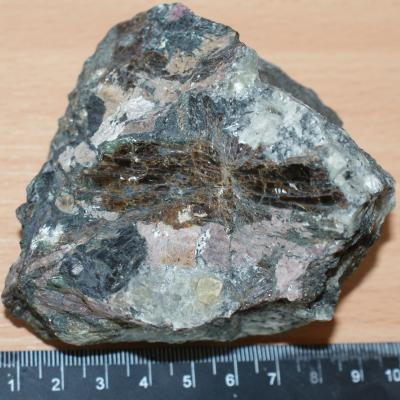mineralogy: (0, 4, 397, 352)
